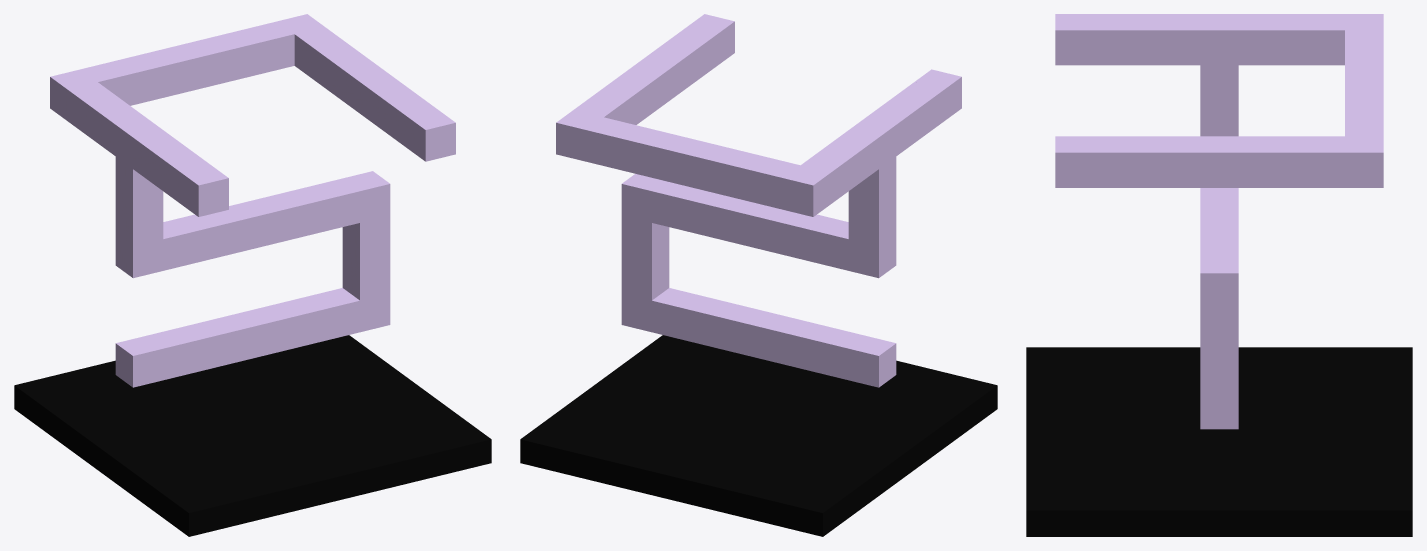
3 renders of one model, left to right at view 1: azimuth 30°, elevation 25°; view 2: azimuth 150°, elevation 25°; view 3: azimuth 270°, elevation 25°, orthographic. The views are drawn at different scales.
Parts seen in each view (by area): view 1: 뼈대, 바닥3; view 2: 뼈대, 바닥3; view 3: 바닥3, 뼈대.
Boxes of the visible parts, bbox=[...] form: 뼈대: bbox=[50, 14, 455, 387]; 바닥3: bbox=[14, 335, 491, 536]; 뼈대: bbox=[556, 14, 961, 387]; 바닥3: bbox=[520, 335, 997, 536]; 바닥3: bbox=[1026, 347, 1412, 536]; 뼈대: bbox=[1055, 14, 1383, 429].
Bounding box in the file's own units: 4 × 4.25 × 4.
Materials: 19 (19 with a texture image).
